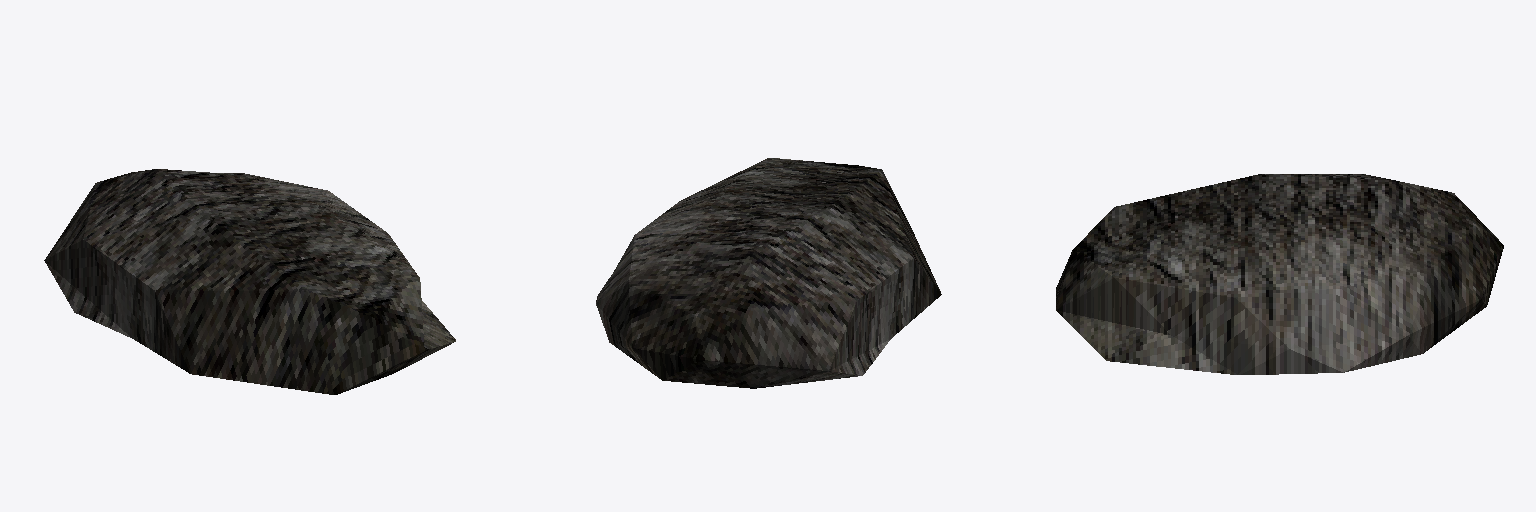
3 renders of one model, left to right at view 1: azimuth 30°, elevation 25°; view 2: azimuth 150°, elevation 25°; view 3: azimuth 270°, elevation 25°, orthographic.
Parts seen in each view (by area): view 1: pebble_1; view 2: pebble_1; view 3: pebble_1.
Boxes of the visible parts, x1,y1,x2,y2 form: pebble_1: [44, 169, 455, 394]; pebble_1: [596, 158, 941, 388]; pebble_1: [1056, 174, 1503, 374].
Size of the model in its own units: 7.27 by 2.79 by 10.21.
1 materials, 1 textured.